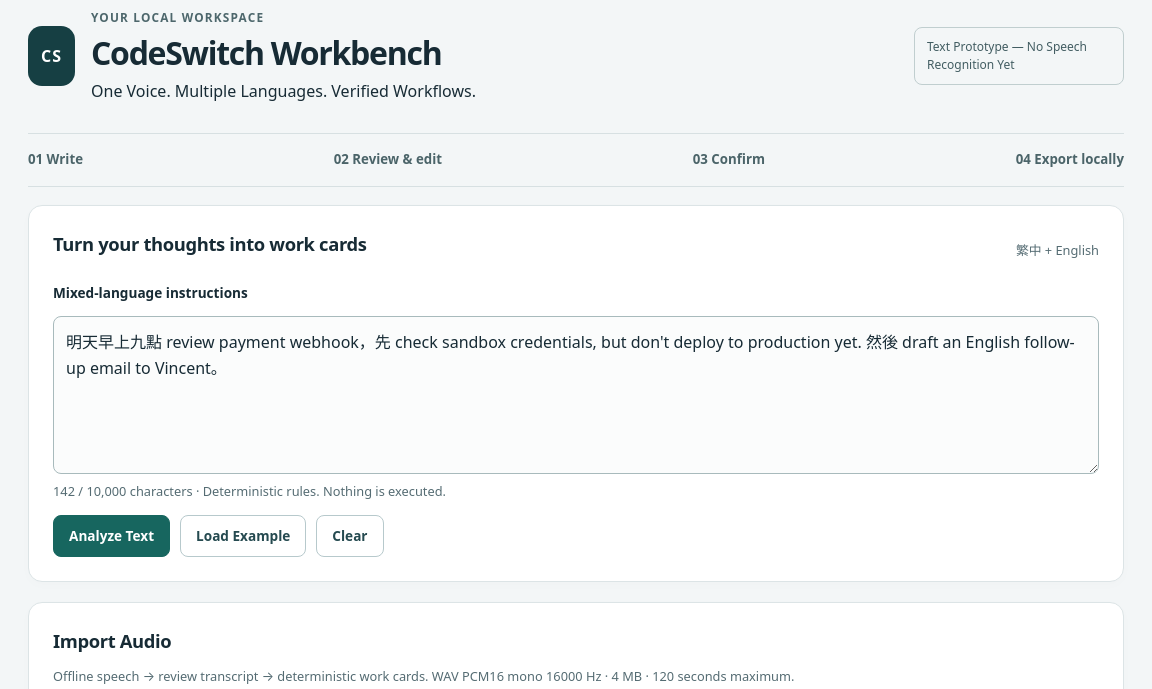
Test: highlights exact source text at UTF-16 indexes
The image size is (1152, 689).
Step 1. Click the button "Analyze Text" → {"x": 112, "y": 536}, box [53,515,170,557]
(page scrolled)
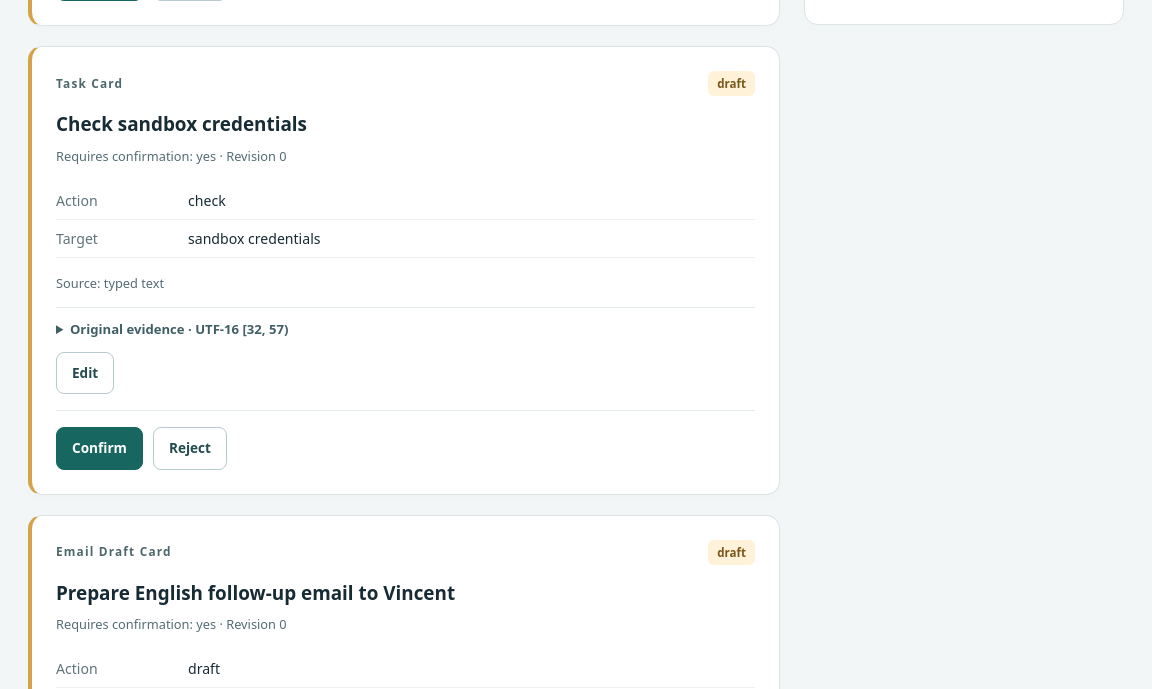
Step 2. Click the heading "Original evidence · UTF-16 [32, 57)" → {"x": 179, "y": 329}, box [70,320,288,338]
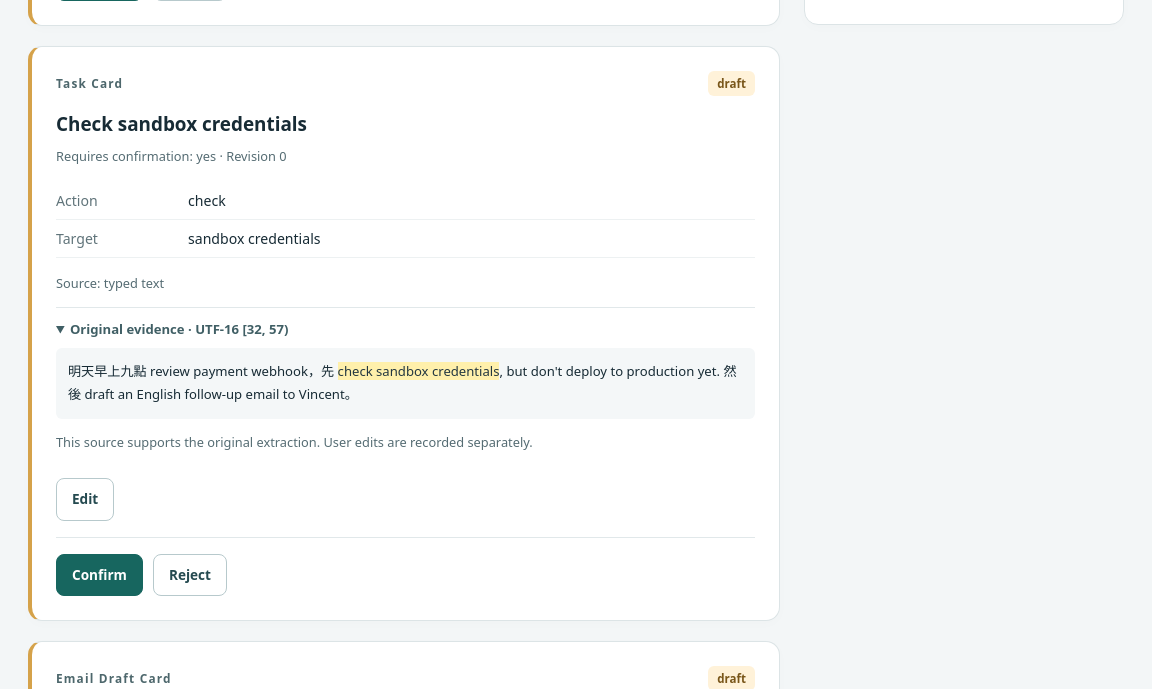
expect the text "check sandbox credentials" is shown: met, box [338,362,500,380]
